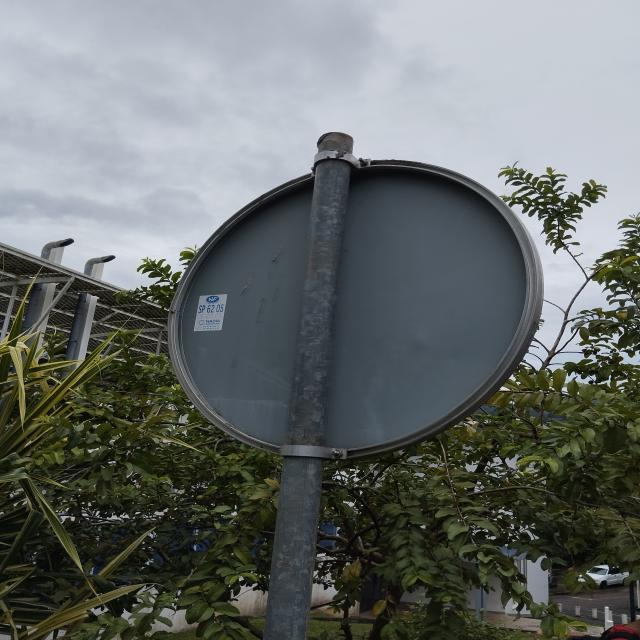Panneau: (173, 158, 540, 460)
